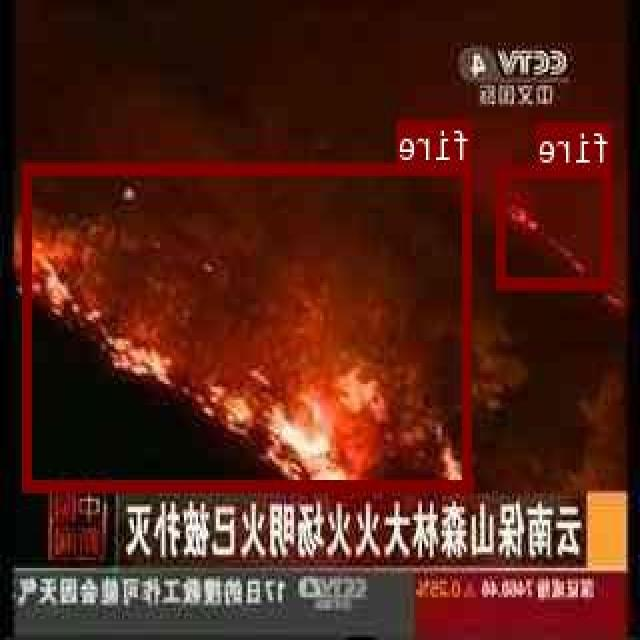fire: (24, 161, 473, 489), (499, 164, 614, 286)
